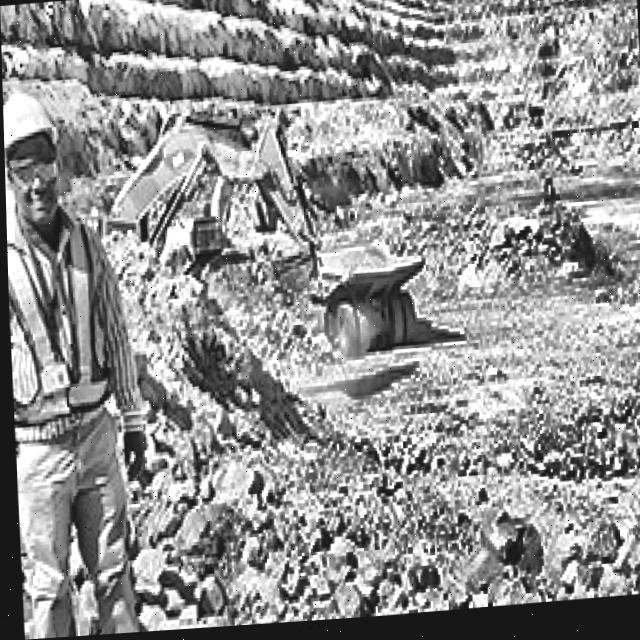dump_truck: (304, 205, 413, 410)
